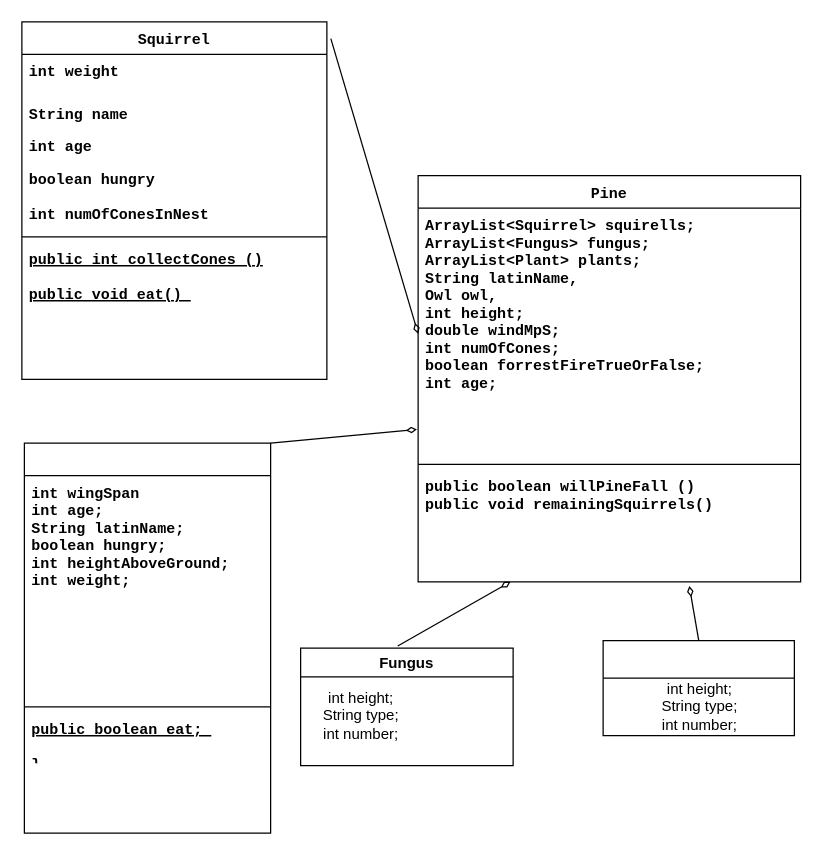
This 823x855 diagram has some shape labels left out. The shapes that lost their labels are listed below. From the top down, each one's box as (x1, y1, x2, y2) in pixels, then its label:
(23, 442, 271, 833): Owl
(602, 639, 794, 736): Plant
